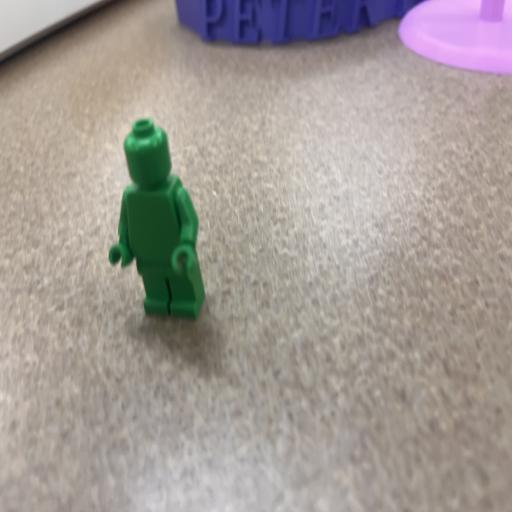Lego-Minifig: (109, 118, 205, 318)
